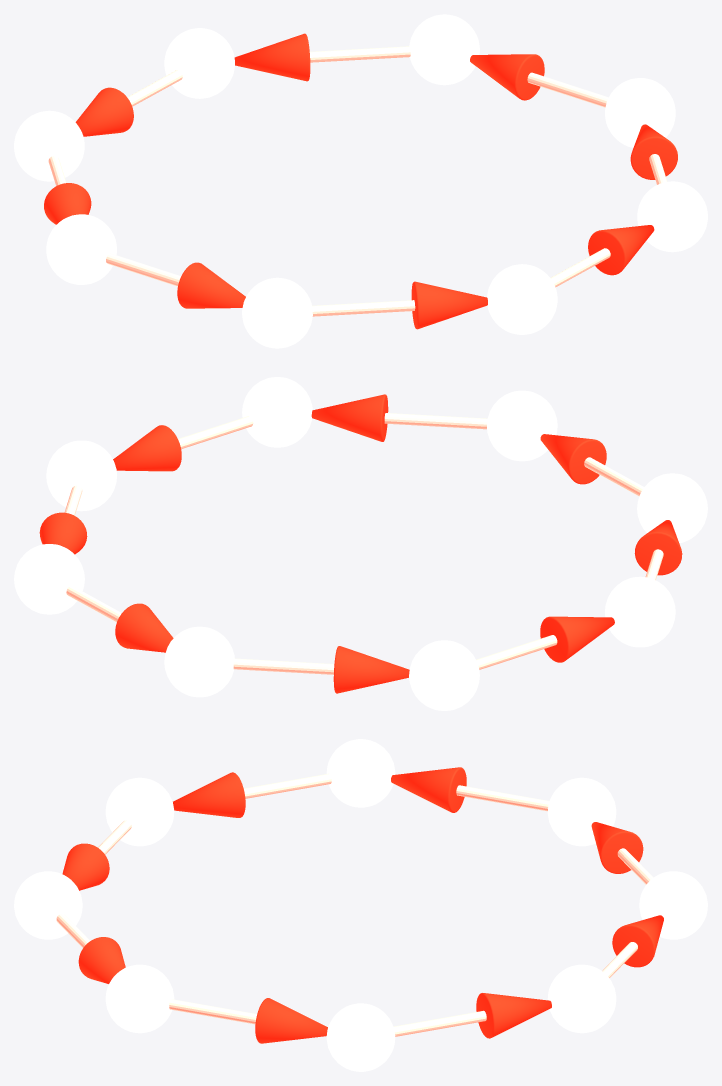
3 views of the same model, one above another, from view 1: azimuth 30°, elevation 25°; view 2: azimuth 150°, elevation 25°; view 3: azimuth 270°, elevation 25° (orthographic). The views are drawn at different scales.
Visible parts, largest first — view 1: Sphere.0005, Sphere.0006, Sphere.0001, Sphere.0004, Sphere.0002, Sphere.0007, Sphere.0003, Sphere.0000, Alpha.0001, Alpha.0004, Alpha.0005, Alpha.0000 (+10 smaller); view 2: Sphere.0003, Sphere.0002, Sphere.0004, Sphere.0007, Sphere.0006, Sphere.0001, Sphere.0000, Sphere.0005, Alpha.0002, Alpha.0007, Alpha.0006, Alpha.0003 (+10 smaller); view 3: Sphere.0000, Sphere.0001, Sphere.0007, Sphere.0004, Sphere.0005, Sphere.0006, Sphere.0002, Sphere.0003, Alpha.0007, Alpha.0004, Alpha.0003, Alpha.0000 (+8 smaller).
Boxes of the visible parts, <box> form: Sphere.0005: <box>242,277,312,348</box>; Sphere.0006: <box>487,264,557,334</box>; Sphere.0001: <box>409,14,479,85</box>; Sphere.0004: <box>46,214,116,284</box>; Sphere.0002: <box>164,28,234,98</box>; Sphere.0007: <box>637,181,707,252</box>; Sphere.0003: <box>14,110,84,181</box>; Sphere.0000: <box>605,78,675,147</box>; Alpha.0001: <box>234,33,310,81</box>; Alpha.0004: <box>177,262,245,308</box>; Alpha.0005: <box>411,281,487,329</box>; Alpha.0000: <box>470,54,544,100</box>; Sphere.0003: <box>409,640,479,710</box>; Sphere.0002: <box>164,626,234,697</box>; Sphere.0004: <box>605,576,675,647</box>; Sphere.0007: <box>242,377,312,447</box>; Sphere.0006: <box>487,390,557,461</box>; Sphere.0001: <box>14,544,84,614</box>; Sphere.0000: <box>46,440,116,511</box>; Sphere.0005: <box>637,473,707,543</box>; Alpha.0002: <box>333,646,409,693</box>; Alpha.0007: <box>113,425,181,471</box>; Alpha.0006: <box>311,394,388,441</box>; Alpha.0003: <box>540,616,614,662</box>; Sphere.0000: <box>326,1003,395,1071</box>; Sphere.0001: <box>547,964,616,1033</box>; Sphere.0007: <box>105,964,174,1033</box>; Sphere.0004: <box>326,739,395,807</box>; Sphere.0005: <box>105,777,174,846</box>; Sphere.0006: <box>14,871,82,939</box>; Sphere.0002: <box>639,871,707,939</box>; Sphere.0003: <box>547,777,616,846</box>; Alpha.0007: <box>255,998,327,1043</box>; Alpha.0004: <box>173,772,245,817</box>; Alpha.0003: <box>391,767,466,812</box>; Alpha.0000: <box>476,993,551,1038</box>.
Bounding box in the file's own units: 1.31 × 0.1296 × 1.31.
